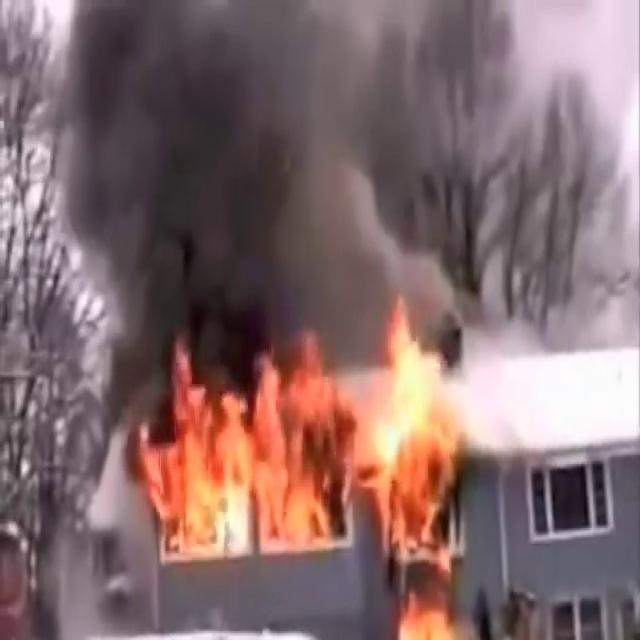Fire: (134, 316, 475, 616)
Smoke: (38, 0, 452, 398)
